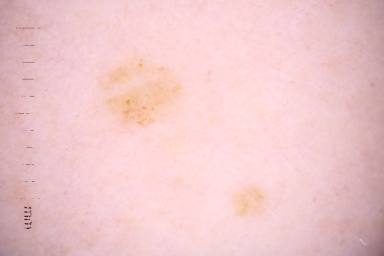melanoma: (101, 63, 182, 125), (231, 189, 261, 215)
